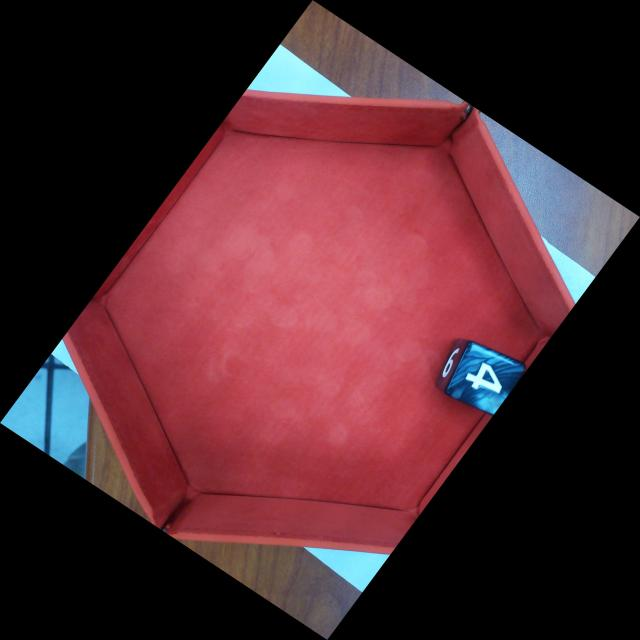dice: (446, 342, 525, 415)
